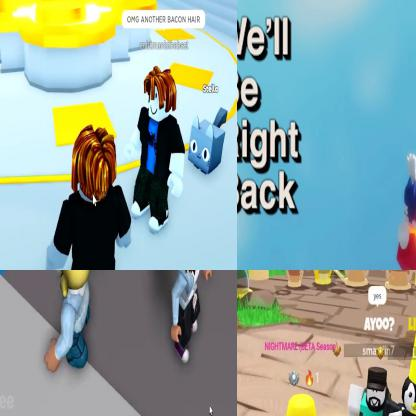Roblox-Avatar: (46, 124, 133, 270), (125, 67, 186, 236), (44, 271, 109, 375), (172, 271, 214, 365), (383, 328, 416, 416), (348, 366, 405, 416), (397, 153, 416, 270)
